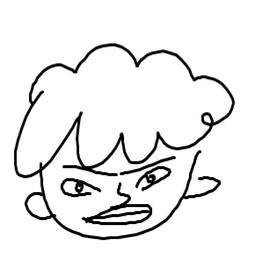ear: (183, 170, 223, 199), (22, 191, 56, 223)
eye: (136, 164, 172, 191), (56, 178, 103, 197)
frowning_eyebrow: (120, 151, 177, 176), (61, 164, 119, 178)
nose: (111, 182, 131, 204)
open_mouth: (83, 201, 155, 226)
